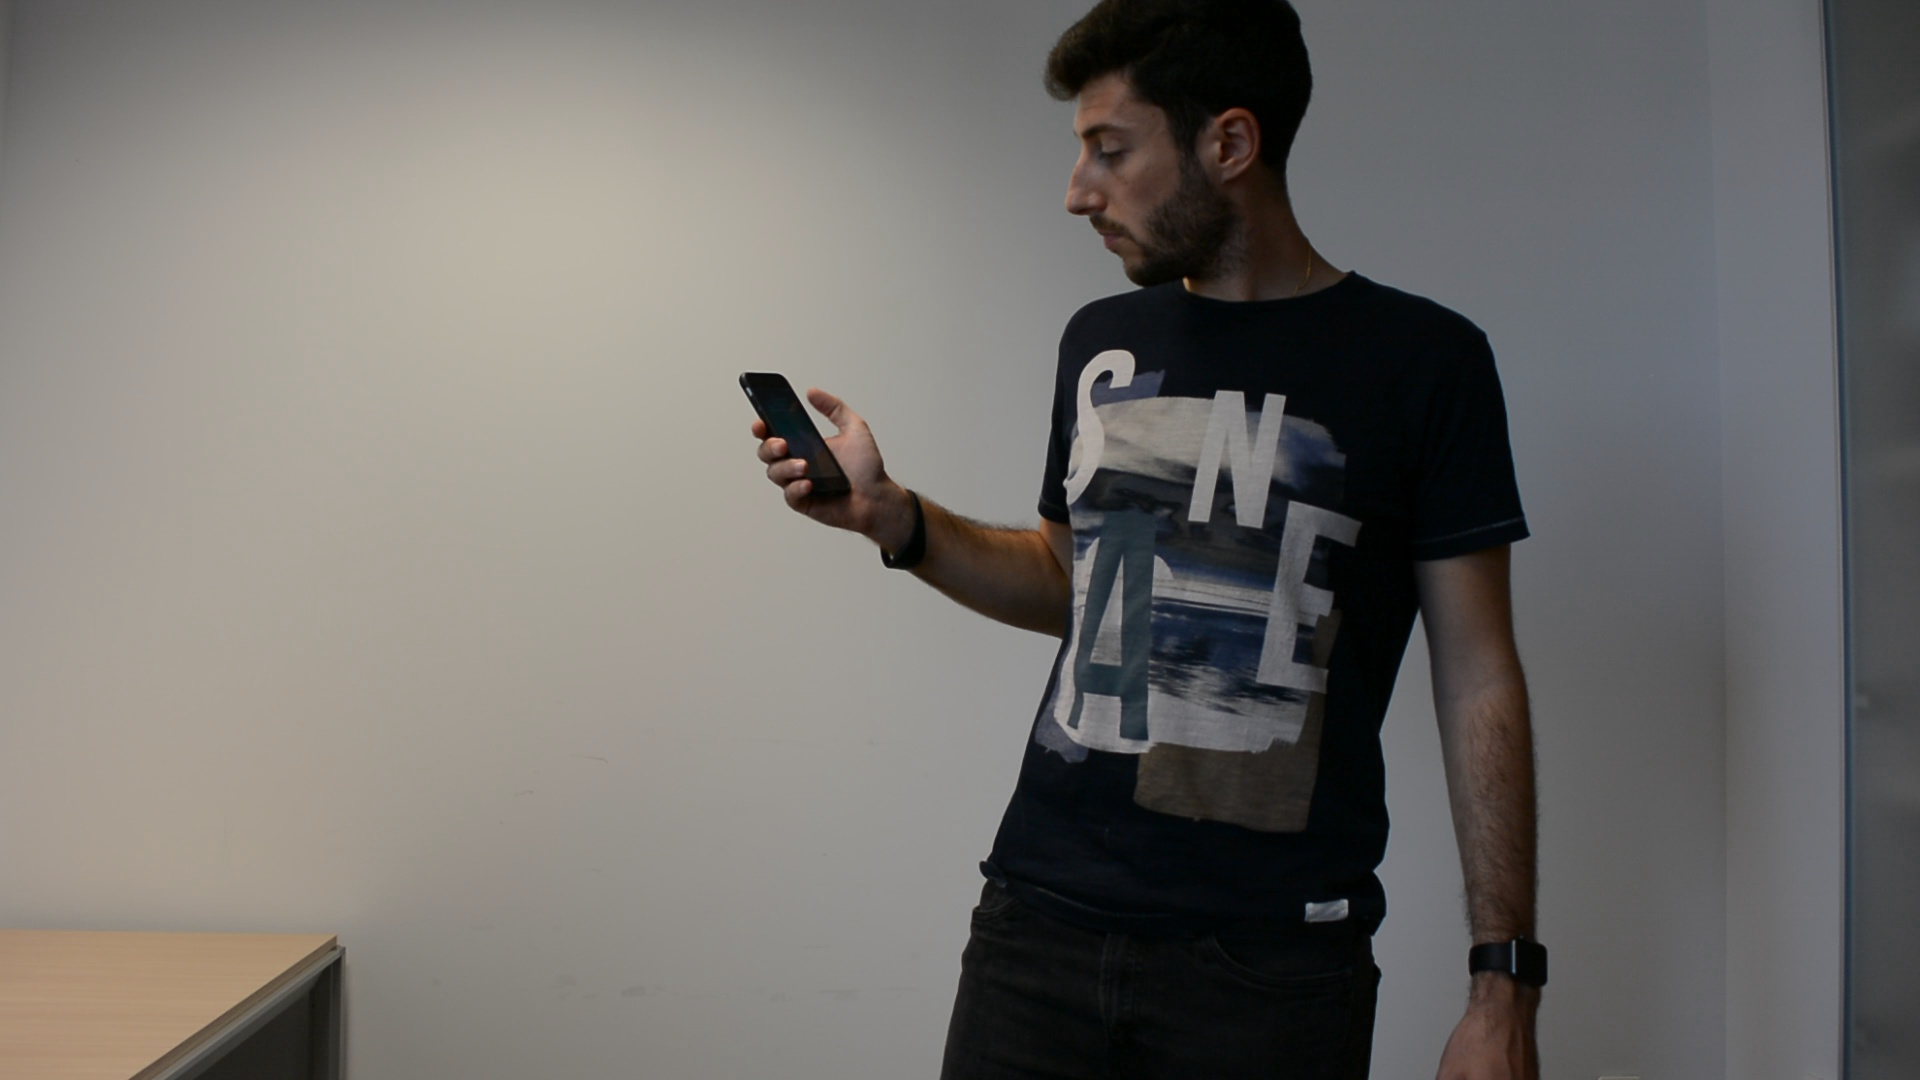smartphone: (737, 371, 855, 498)
